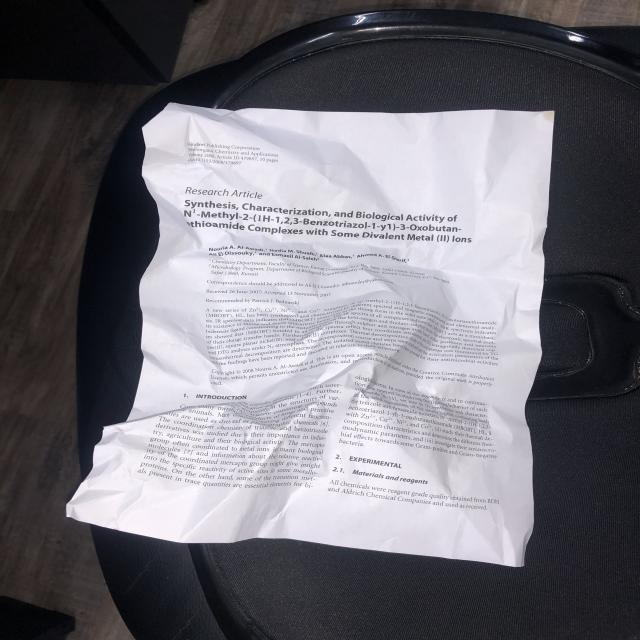document: (68, 104, 553, 566)
